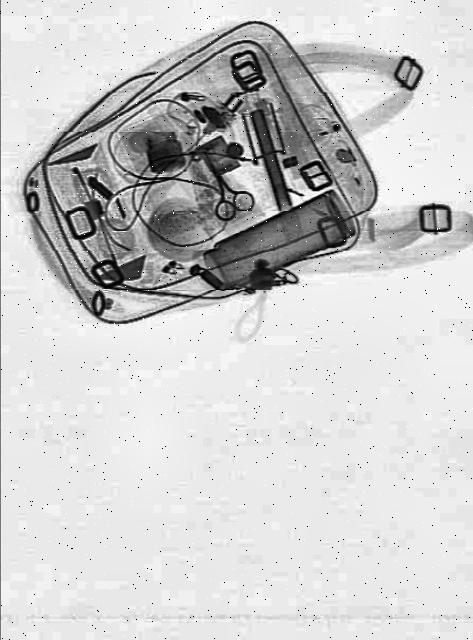Scissors: (191, 138, 257, 232)
